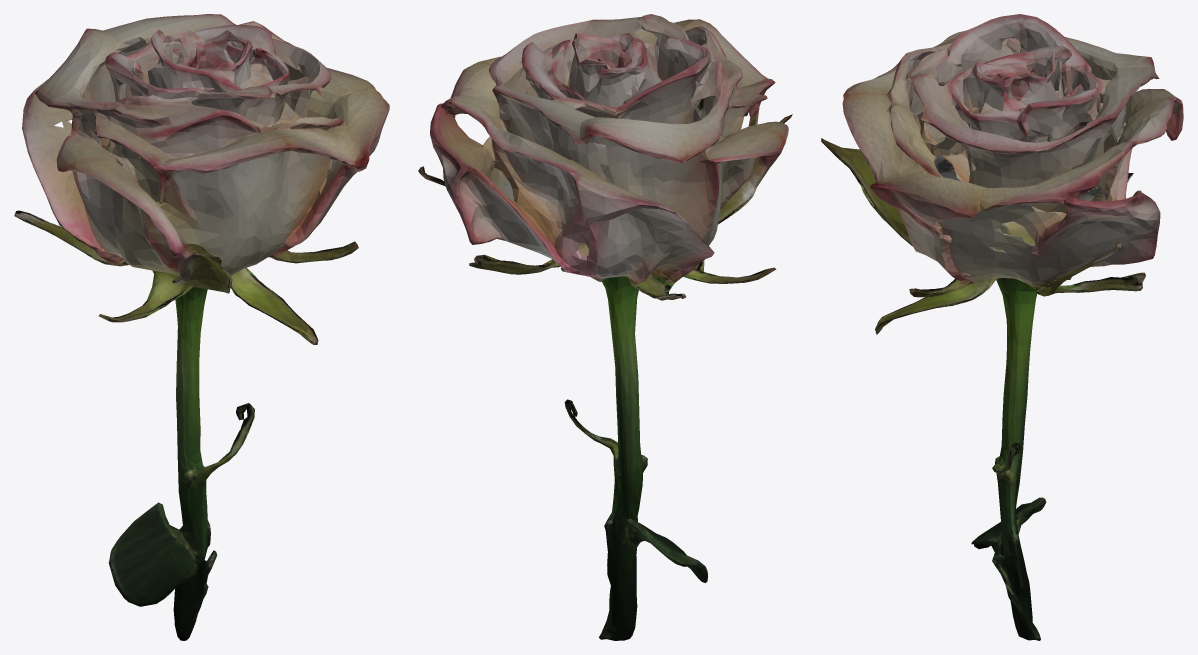
3 views of the same model, side by side, from view 1: azimuth 30°, elevation 25°; view 2: azimuth 150°, elevation 25°; view 3: azimuth 270°, elevation 25° (orthographic).
Parts seen in each view (by area): view 1: world; view 2: world; view 3: world.
Part boxes in pixels (x1,y1,x2,y2): world: (14,14,389,640); world: (418,14,792,640); world: (821,14,1183,640).
Bounding box in the file's own units: 0.5266 × 0.9413 × 0.5241.
1 material, 1 textured.
